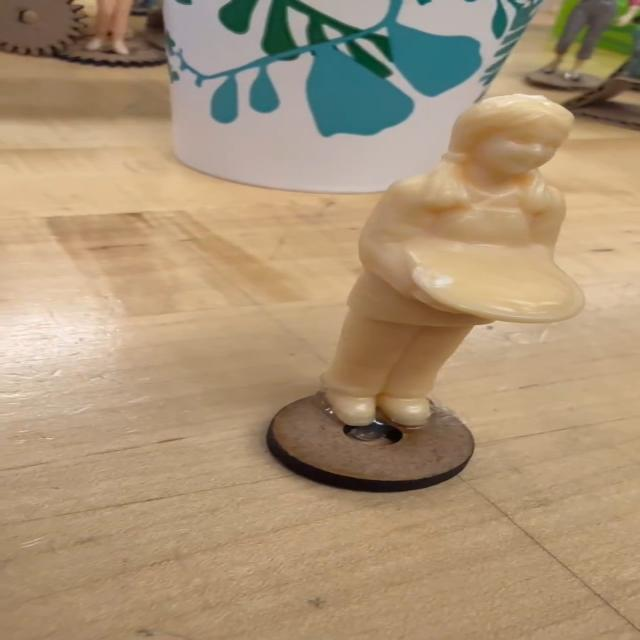Unauthorized: (302, 85, 604, 433)
